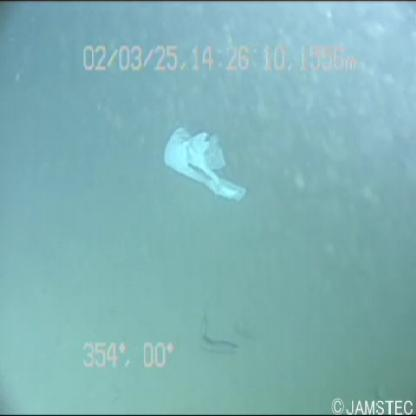Bio: (198, 309, 245, 358)
Rác: (154, 120, 255, 212)
